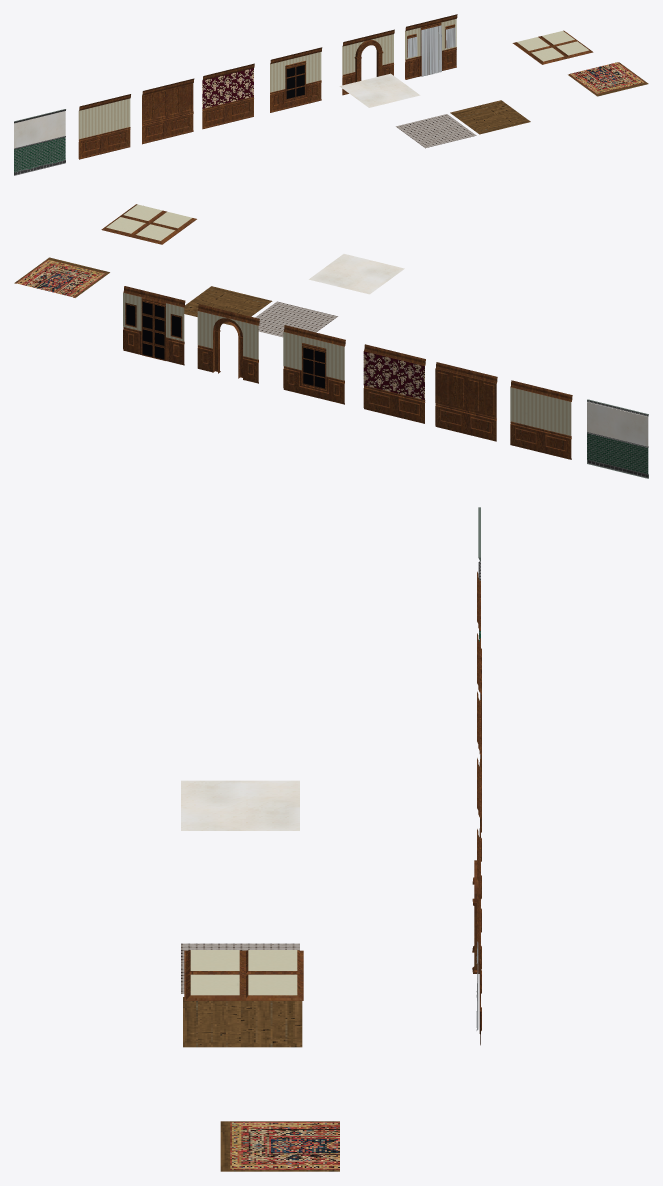
File: NewTiles.obj
3 views of the same model, one above another, from view 1: azimuth 30°, elevation 25°; view 2: azimuth 150°, elevation 25°; view 3: azimuth 270°, elevation 25° (orthographic). The views are drawn at different scales.
Visible parts, largest first — view 1: Wall.Batthroom_Plane, Plane_Plane.001, Wall.Window.001_Plane.005, Plane.004_Plane.008, Wall.Wood_Plane.011, Wall.Window_Plane.010, Plane.003_Plane.004, Plane.002_Plane.003, Ceiling.Plaster_Plane.013, Floor.Tiles_Plane.012, Plane.001_Plane.002, Ceiling_Plane.009; view 2: Wall.Window_Plane.010, Wall.Window.001_Plane.005, Plane_Plane.001, Wall.Wood_Plane.011, Plane.004_Plane.008, Wall.Batthroom_Plane, Plane.003_Plane.004, Ceiling_Plane.009, Ceiling.Plaster_Plane.013, Plane.002_Plane.003, Floor.Tiles_Plane.012, Plane.001_Plane.002; view 3: Plane.002_Plane.003, Ceiling_Plane.009, Ceiling.Plaster_Plane.013, Plane.001_Plane.002, Floor.Tiles_Plane.012.
Boxes of the visible parts, bbox=[...] form: Wall.Batthroom_Plane: bbox=[14, 109, 65, 175]; Plane_Plane.001: bbox=[78, 94, 130, 159]; Wall.Window.001_Plane.005: bbox=[405, 14, 457, 79]; Plane.004_Plane.008: bbox=[202, 63, 254, 129]; Wall.Wood_Plane.011: bbox=[142, 78, 194, 144]; Wall.Window_Plane.010: bbox=[270, 47, 322, 112]; Plane.003_Plane.004: bbox=[342, 29, 394, 95]; Plane.002_Plane.003: bbox=[568, 62, 648, 96]; Ceiling.Plaster_Plane.013: bbox=[339, 73, 420, 107]; Floor.Tiles_Plane.012: bbox=[396, 114, 476, 148]; Plane.001_Plane.002: bbox=[450, 100, 530, 134]; Ceiling_Plane.009: bbox=[512, 30, 593, 64]; Wall.Window_Plane.010: bbox=[283, 325, 345, 404]; Wall.Window.001_Plane.005: bbox=[123, 286, 185, 365]; Plane_Plane.001: bbox=[510, 380, 572, 459]; Wall.Wood_Plane.011: bbox=[435, 362, 497, 441]; Plane.004_Plane.008: bbox=[363, 344, 425, 423]; Wall.Batthroom_Plane: bbox=[587, 399, 648, 478]; Plane.003_Plane.004: bbox=[197, 304, 259, 383]; Ceiling_Plane.009: bbox=[101, 204, 196, 244]; Ceiling.Plaster_Plane.013: bbox=[309, 254, 404, 294]; Plane.002_Plane.003: bbox=[14, 257, 109, 297]; Floor.Tiles_Plane.012: bbox=[255, 301, 337, 337]; Plane.001_Plane.002: bbox=[184, 286, 272, 325]; Plane.002_Plane.003: bbox=[220, 1121, 339, 1171]; Ceiling_Plane.009: bbox=[184, 950, 303, 1000]; Ceiling.Plaster_Plane.013: bbox=[181, 780, 299, 830]; Plane.001_Plane.002: bbox=[183, 997, 302, 1047]; Floor.Tiles_Plane.012: bbox=[181, 943, 299, 993].
Bounding box in the file's own units: 33.13 × 3.08 × 7.58.
Materials: 12 (11 with a texture image).
